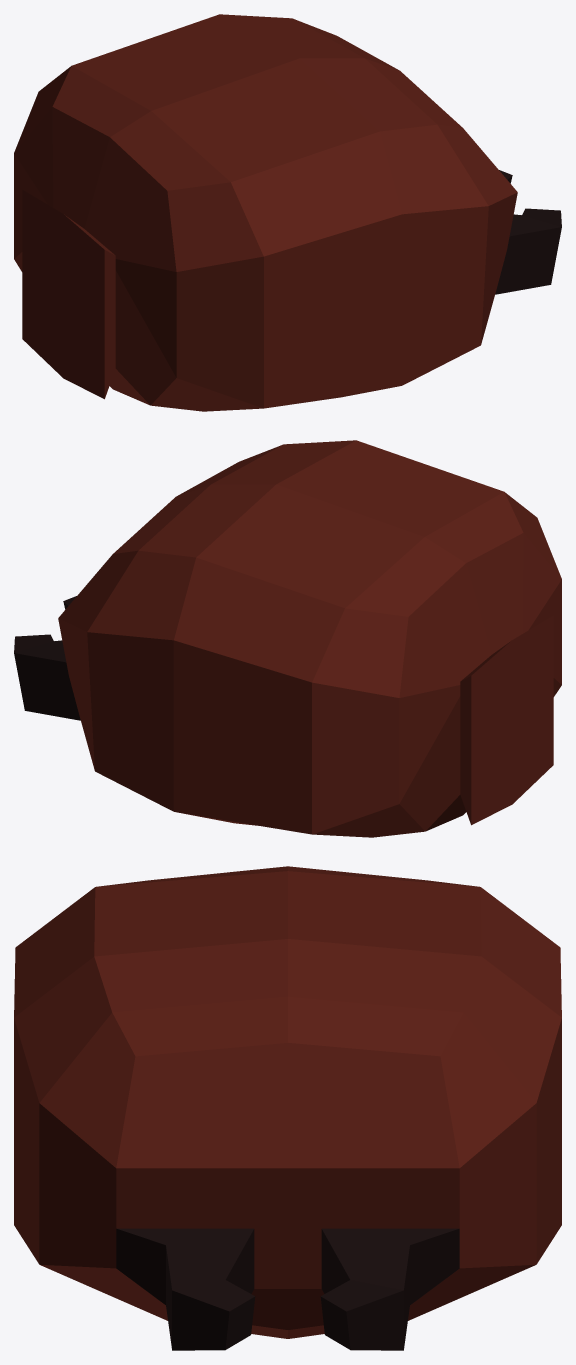
File: Head_Minor.fbx
3 renders of one model, top to bottom at view 1: azimuth 30°, elevation 25°; view 2: azimuth 150°, elevation 25°; view 3: azimuth 270°, elevation 25°, orthographic. The views are drawn at different scales.
Visible parts, largest first — view 1: Head_Minor; view 2: Head_Minor; view 3: Head_Minor.
Boxes of the visible parts, x1=… form: Head_Minor: x1=14, y1=14, x2=561, y2=411; Head_Minor: x1=14, y1=440, x2=561, y2=837; Head_Minor: x1=14, y1=866, x2=561, y2=1350.
Size of the model in its own units: 420 by 507 by 319.
